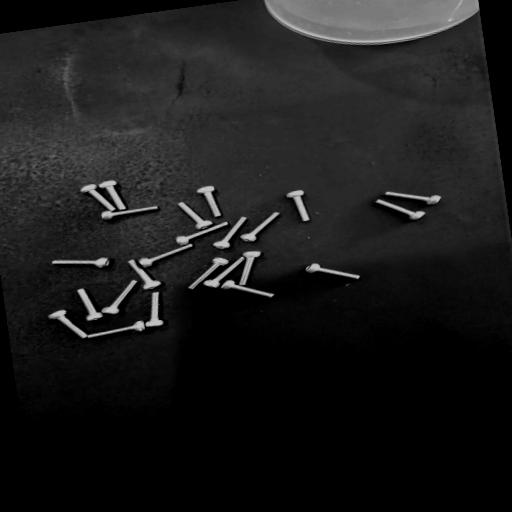Bolt: (203, 257, 245, 288), (139, 244, 193, 267), (189, 258, 229, 289), (102, 280, 138, 314), (176, 222, 228, 245), (234, 250, 266, 286), (241, 212, 279, 242), (48, 310, 88, 338), (214, 217, 247, 249), (129, 260, 162, 290), (88, 321, 146, 338), (376, 200, 425, 220), (220, 280, 274, 298), (81, 184, 116, 211), (178, 203, 212, 230), (102, 206, 159, 221), (78, 289, 104, 321), (305, 264, 360, 279), (100, 180, 126, 210), (197, 186, 222, 217), (386, 192, 441, 205), (287, 190, 310, 221), (145, 292, 164, 328), (52, 258, 111, 268)
